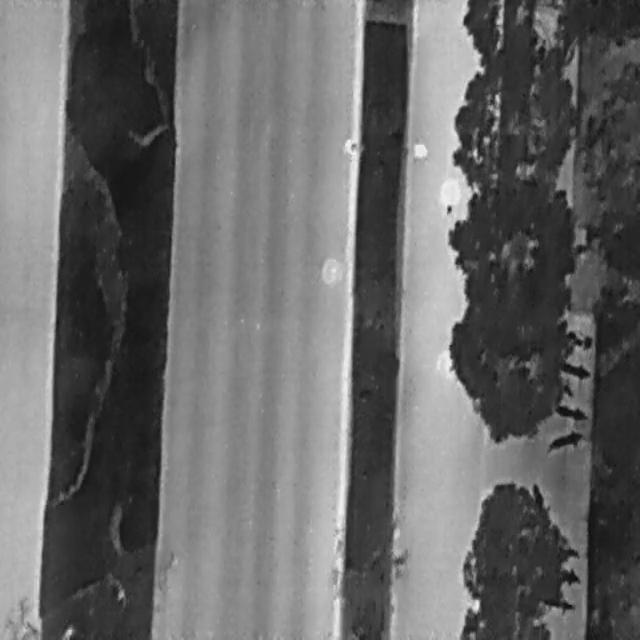Bicycle: (541, 586, 579, 620), (543, 425, 584, 455), (557, 352, 592, 383), (552, 396, 590, 424), (566, 330, 596, 351), (558, 562, 581, 586), (553, 542, 580, 562)
